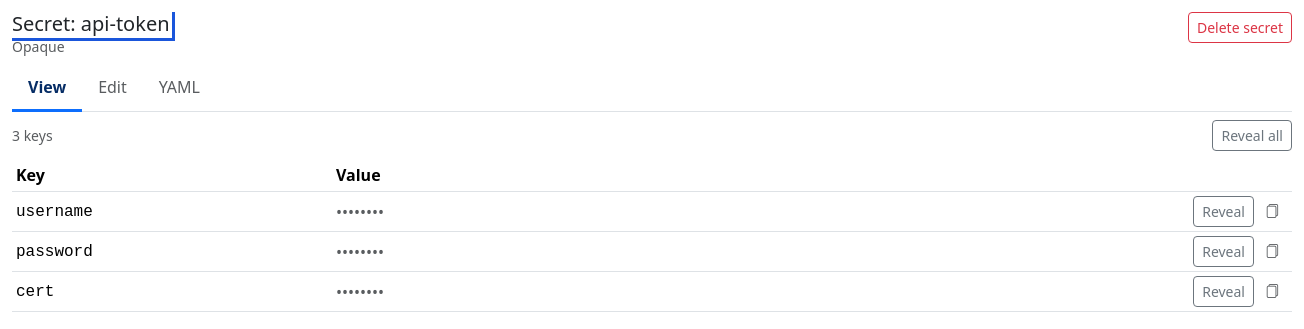
it: SecretDetail — view mode › makes binary values readable in base64 mode
The width and height of the screenshot is (1304, 329).
Click the button "Reveal" in the row of "cert".
click(1224, 292)  # box [1193,276,1254,307]
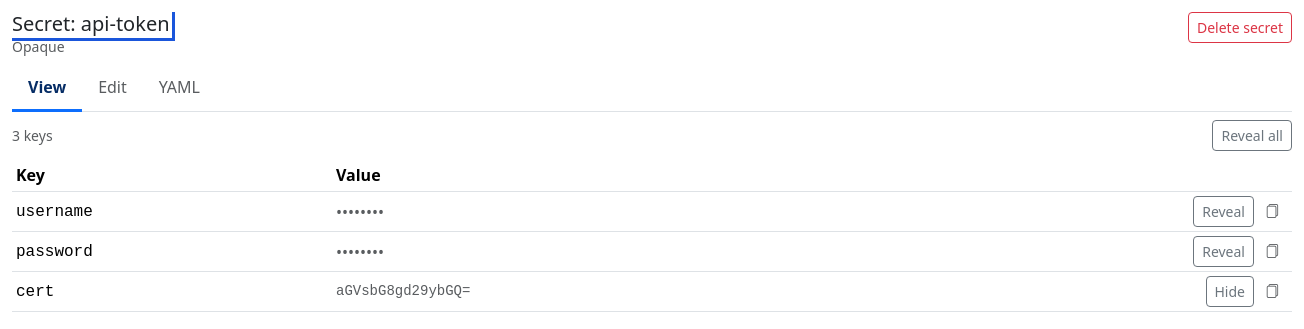
expect the row "cert aGVsbG8gd29ybGQ= Hide" is shown: met, box [12,272,1292,312]
